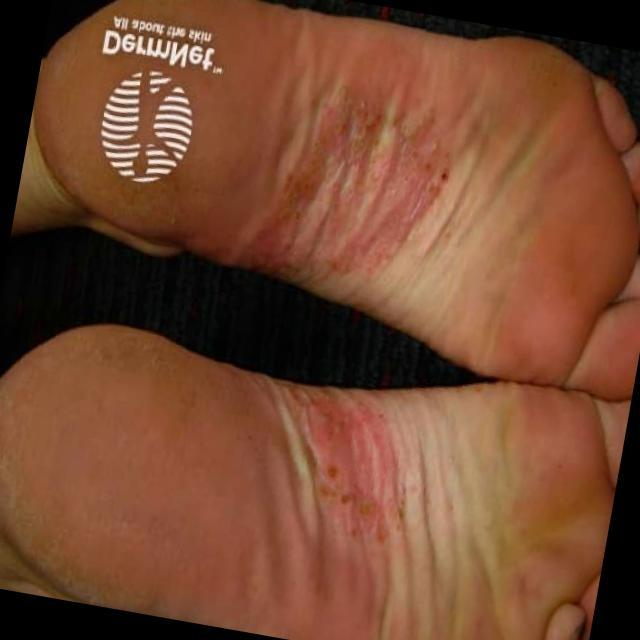Eczema: (249, 78, 456, 280), (278, 394, 416, 554)
